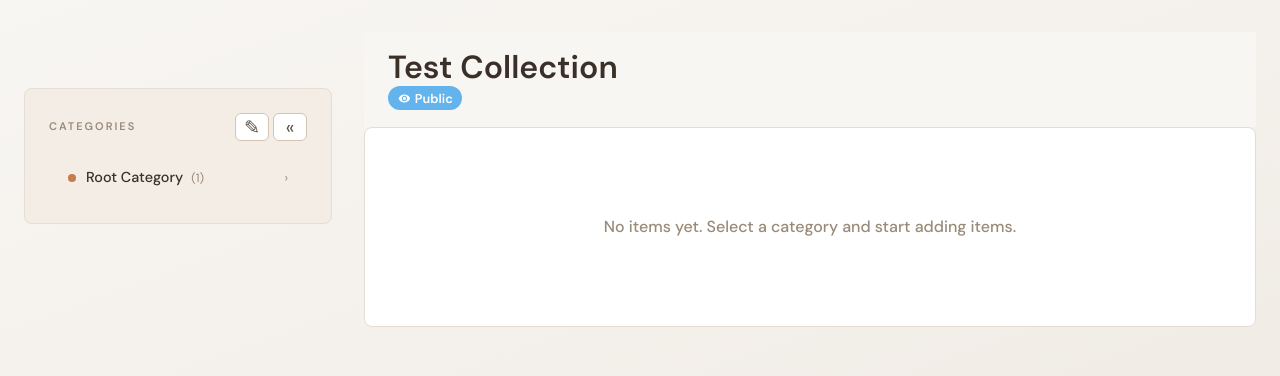
CategoryView › sidebar collapse › should add collapsed class when sidebar is collapsed
What coordinates should you click on to do the following:
click the button named "Collapse categories"
I would click on:
 (290, 127)
Its box is [273, 113, 307, 141].
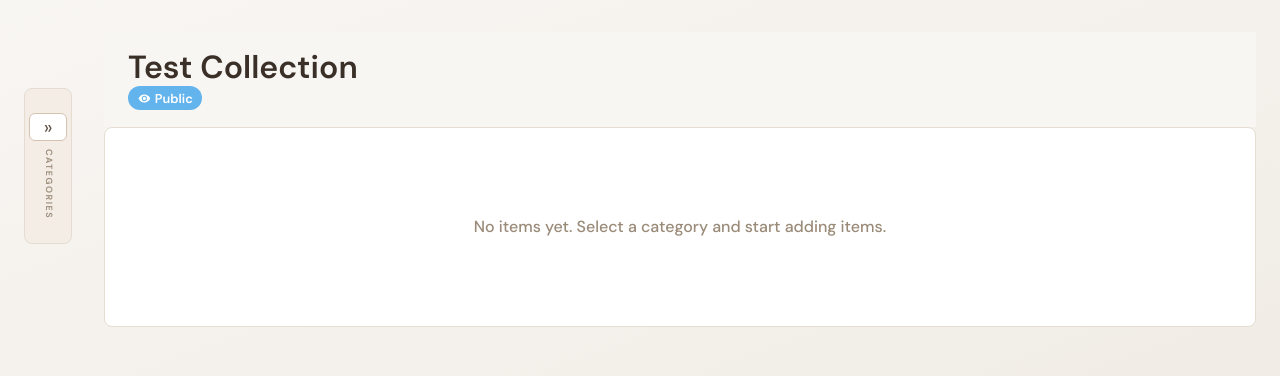
Result: the element with class "app__layout--sidebar-collapsed" is shown
